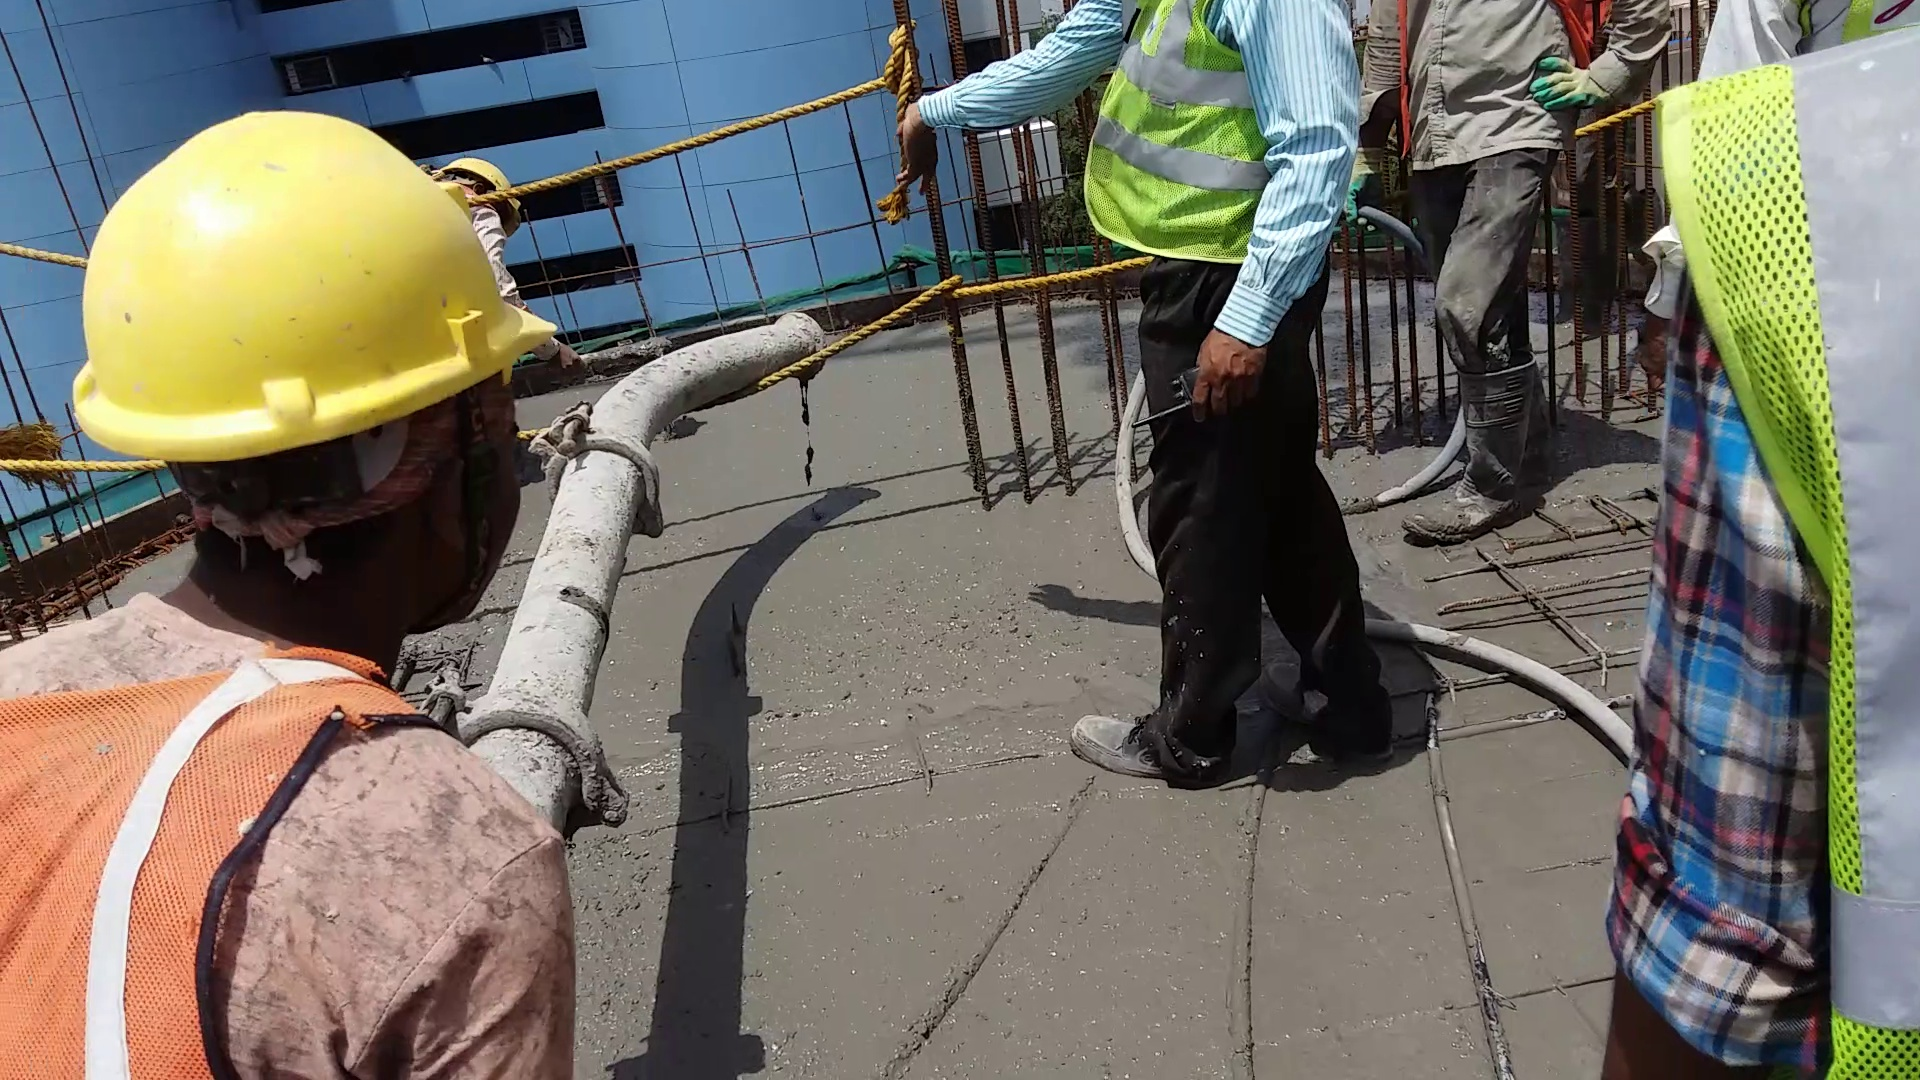SAFE: (1, 102, 572, 1080)
